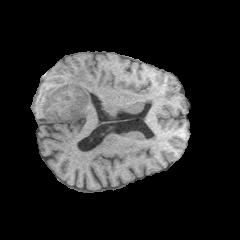glioma: (39, 70, 98, 121)
